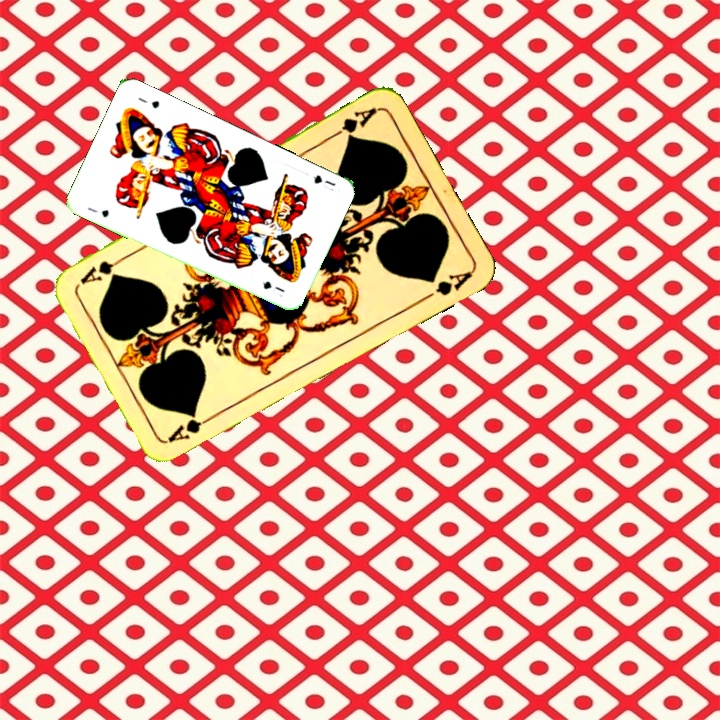GA: (326, 103, 380, 142), (164, 409, 219, 445)
GU: (309, 171, 338, 189), (83, 203, 112, 220)
